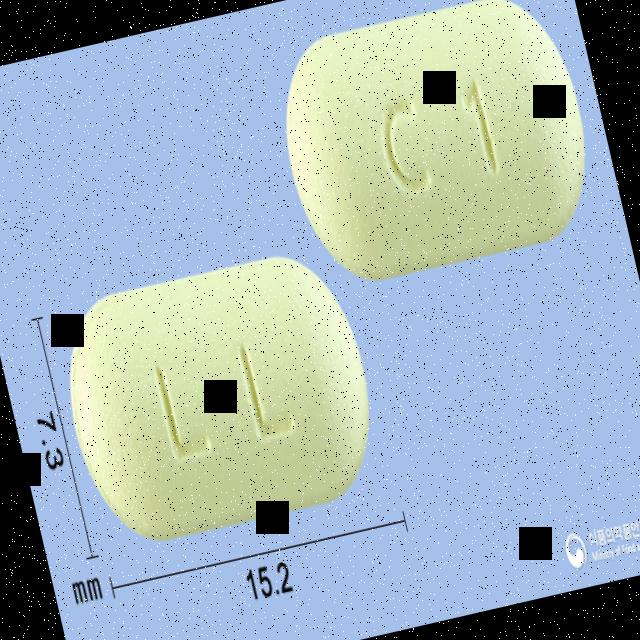Clratomin - 500mg: (46, 237, 392, 553), (262, 0, 607, 293)
